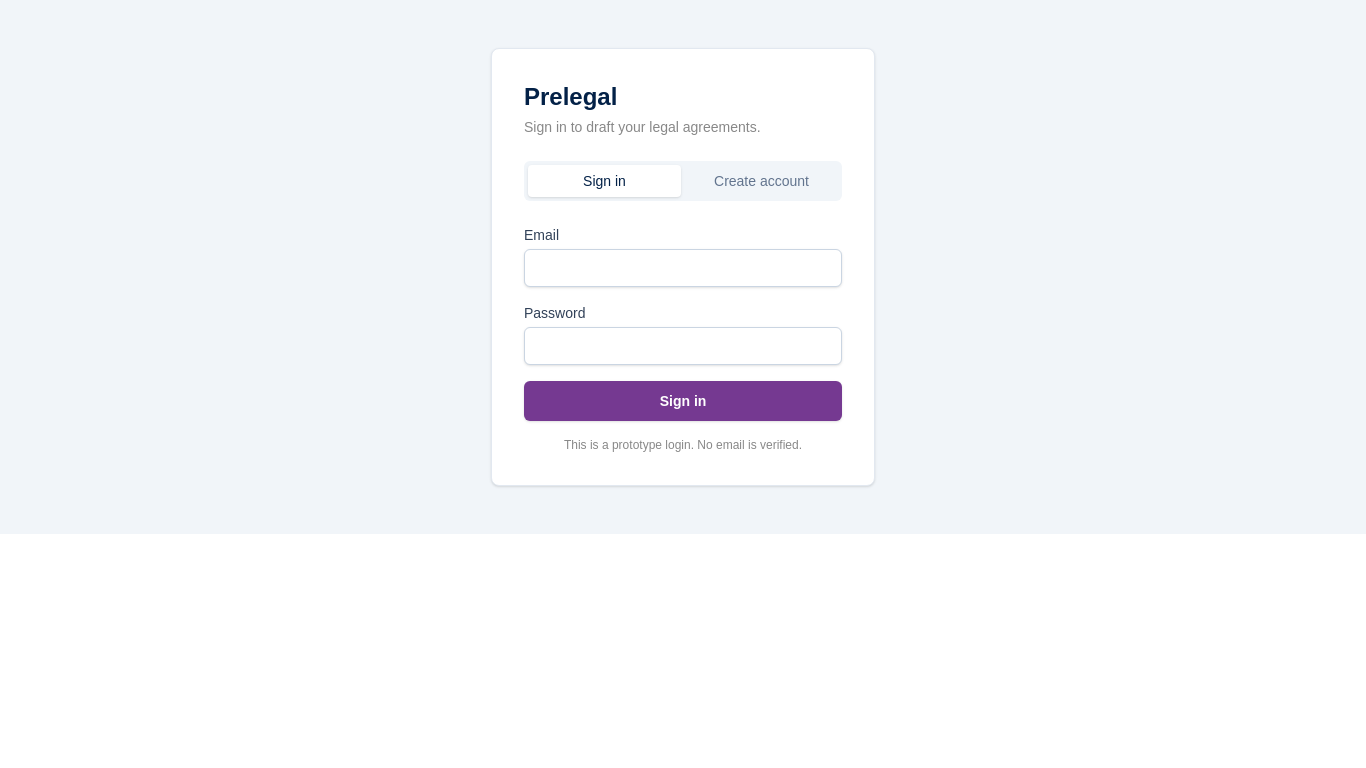
Test case: LoginPage › shows the API error and stays on the page when credentials are wrong
The image size is (1366, 768).
Step 1. Type "founder@acmecorp.com" into the field labelled "Email" → coordinates (683, 268), box [524, 249, 842, 287]
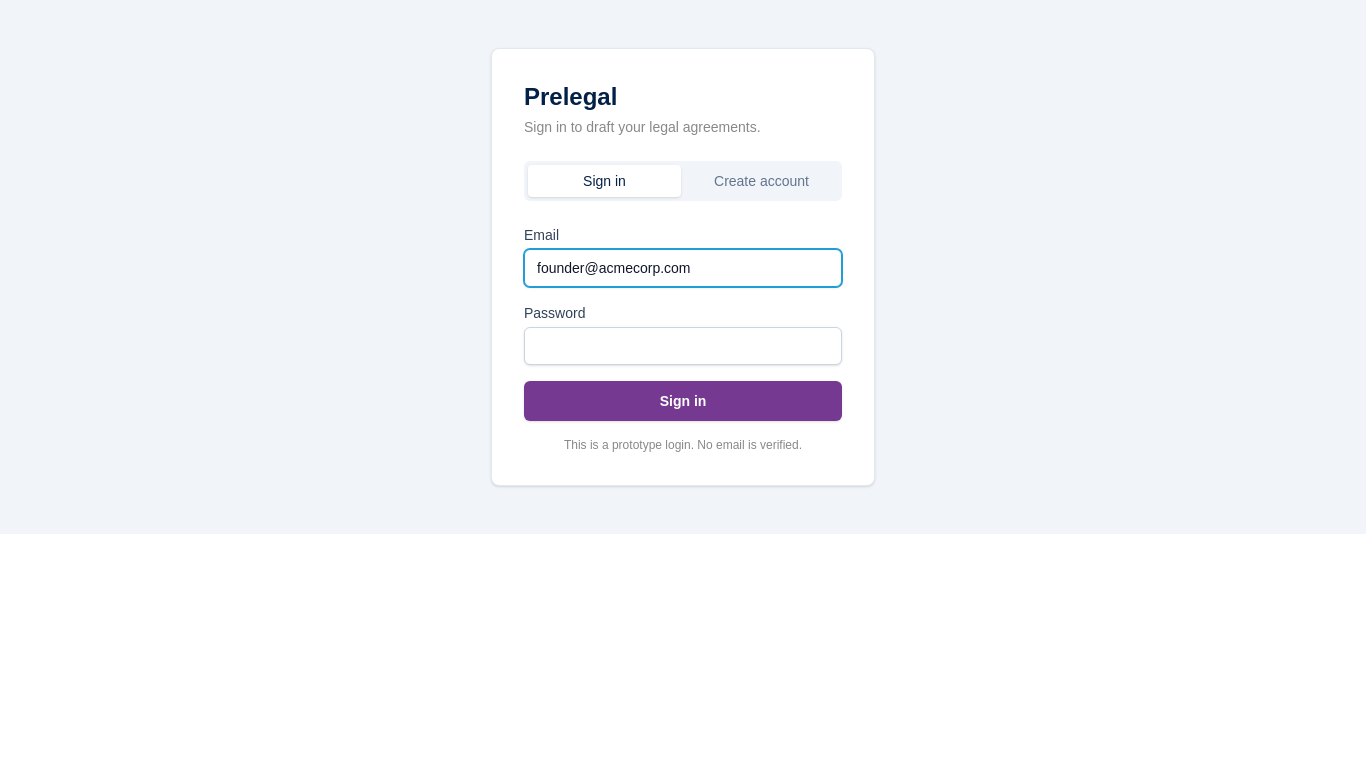
Step 2. Type "correct horse battery" into the password field labelled "Password" → coordinates (683, 346), box [524, 327, 842, 365]
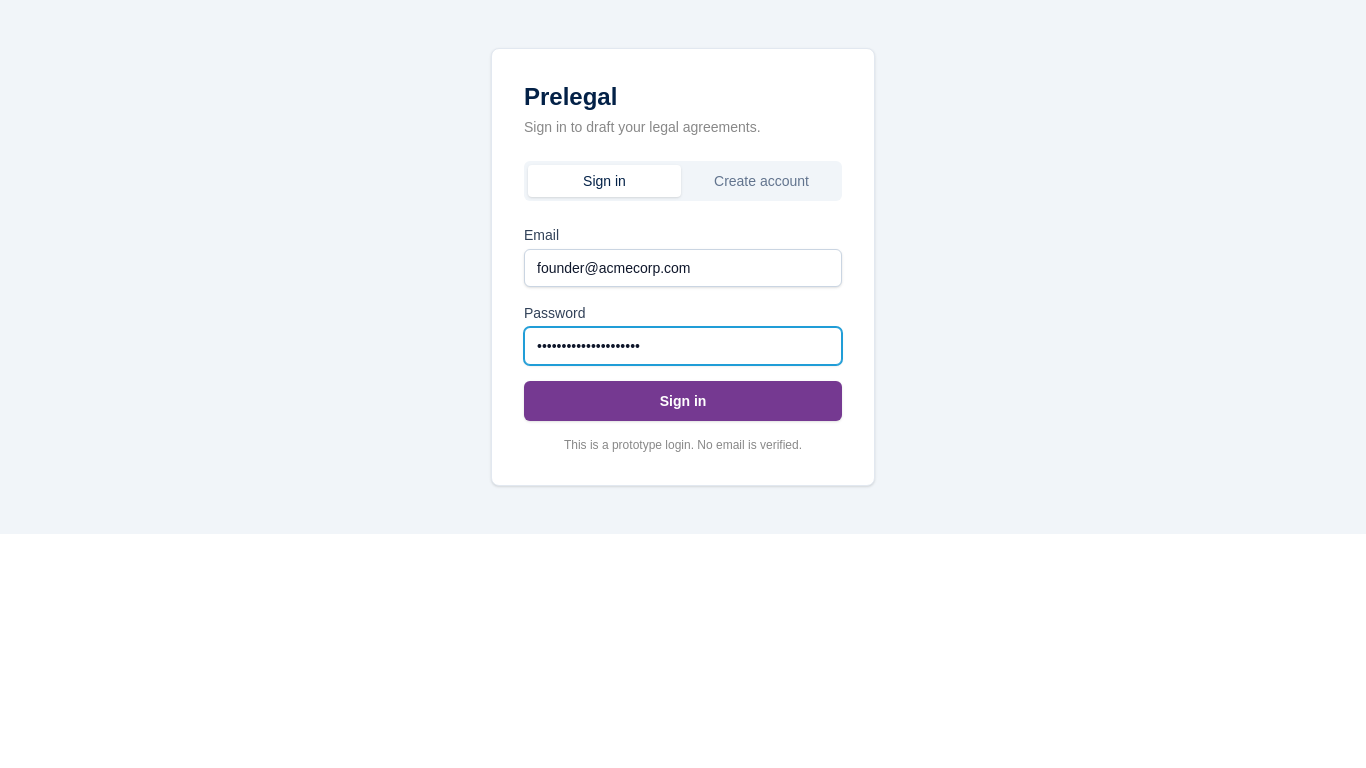
Step 3. Click the button "Sign in" → coordinates (683, 401), box [524, 381, 842, 421]
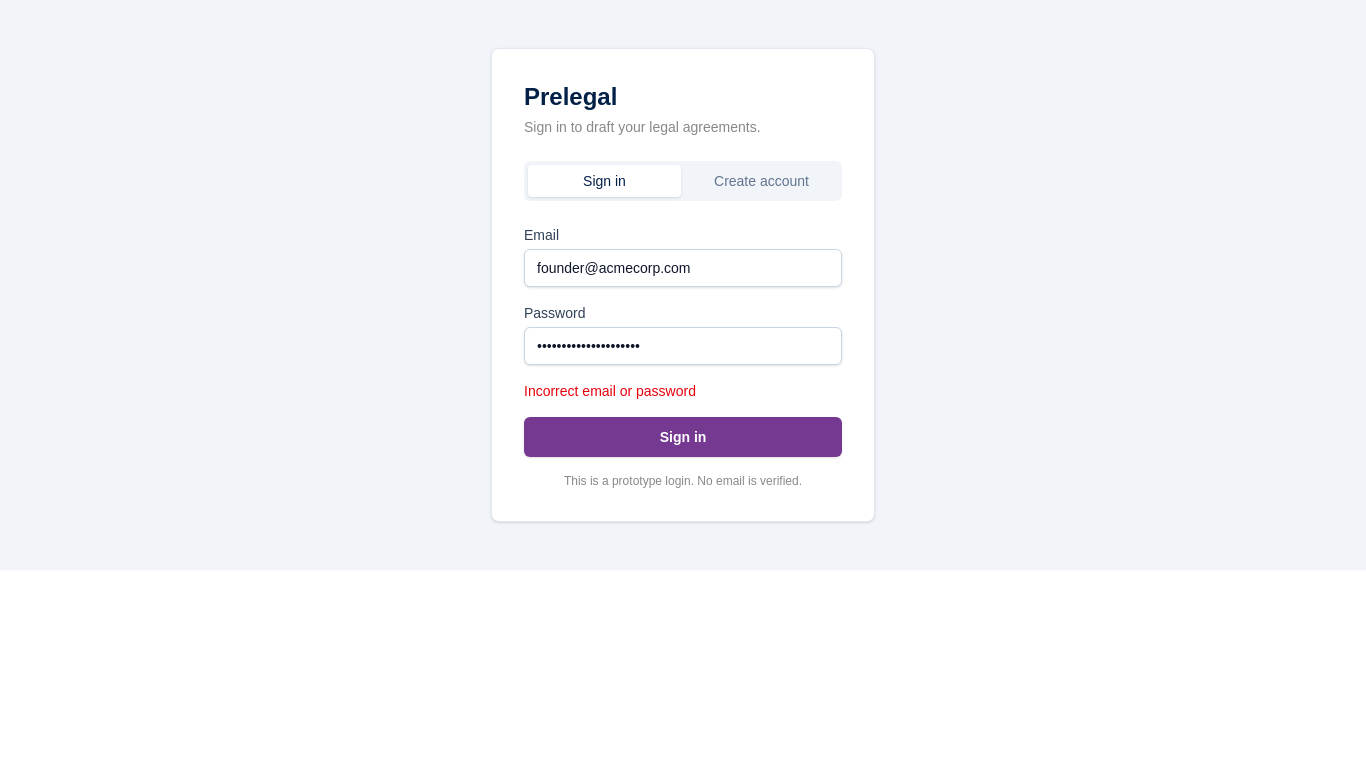
expect the button "Sign in" is enabled: met, box [524, 417, 842, 457]
expect the text "Incorrect email or password" is shown: met, box [524, 383, 696, 399]
